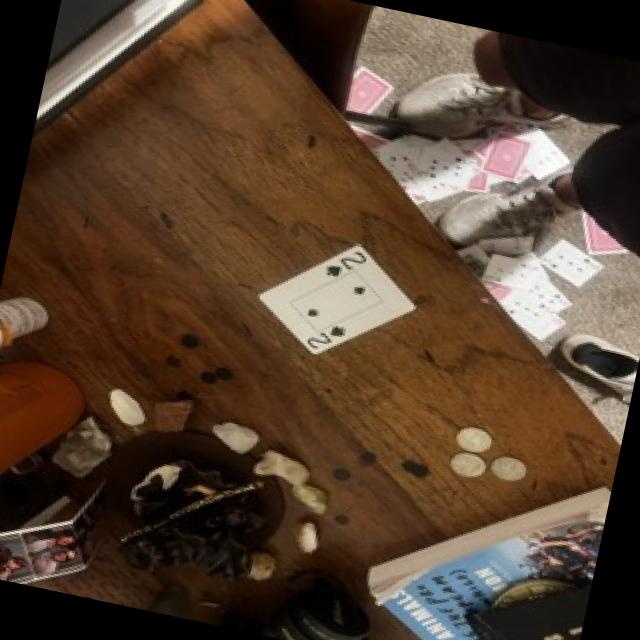2 of spades: (259, 243, 415, 352)
